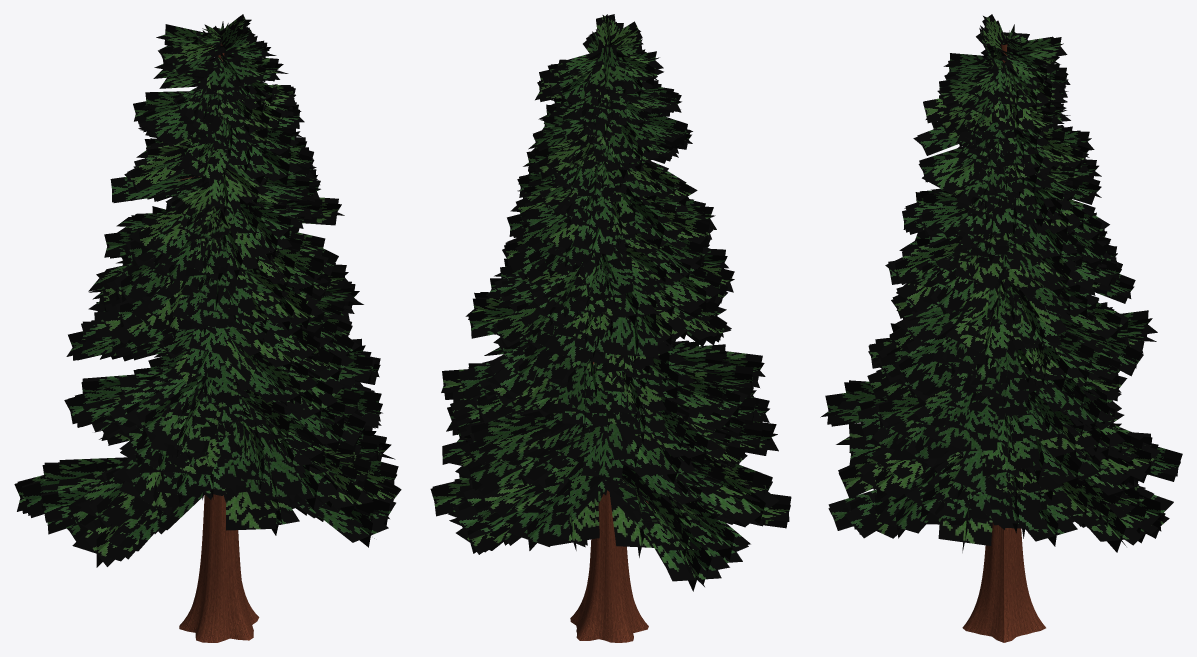
Rendered from redwood-2.glb.
The picture shows the model from 3 angles, left to right: view 1: azimuth 30°, elevation 25°; view 2: azimuth 150°, elevation 25°; view 3: azimuth 270°, elevation 25°; orthographic projection. The views are drawn at different scales.
Parts seen in each view (by area): view 1: redwood-2_RedwoodFoliage, redwood-2_RedwoodBark; view 2: redwood-2_RedwoodFoliage, redwood-2_RedwoodBark; view 3: redwood-2_RedwoodFoliage, redwood-2_RedwoodBark.
Part boxes in pixels (<box>): redwood-2_RedwoodFoliage: <box>14,14,401,567</box>; redwood-2_RedwoodBark: <box>175,43,259,642</box>; redwood-2_RedwoodFoliage: <box>430,14,791,591</box>; redwood-2_RedwoodBark: <box>570,362,648,642</box>; redwood-2_RedwoodFoliage: <box>820,14,1182,552</box>; redwood-2_RedwoodBark: <box>962,44,1045,642</box>.
Size of the model in its own units: 22.93 by 41.54 by 22.63.
Materials: 2 (2 with a texture image).
